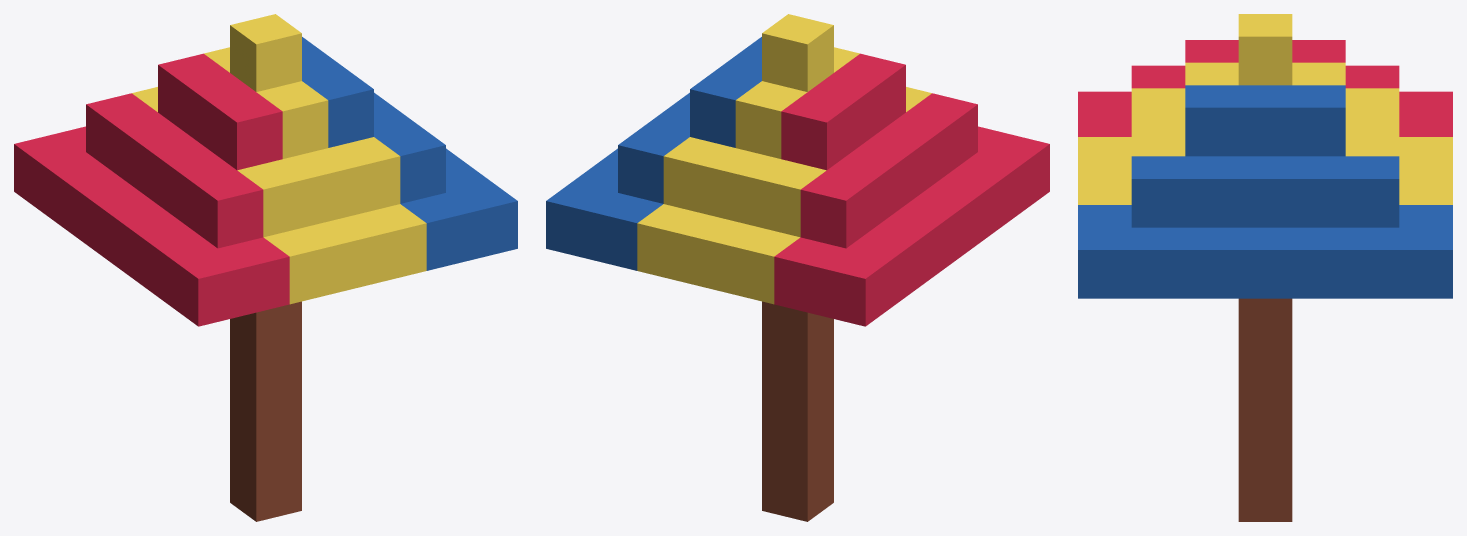
File: sun-umbrella.glb
3 views of the same model, side by side, from view 1: azimuth 30°, elevation 25°; view 2: azimuth 150°, elevation 25°; view 3: azimuth 270°, elevation 25° (orthographic).
Parts seen in each view (by area): view 1: generated(Clone); view 2: generated(Clone); view 3: generated(Clone).
Part boxes in pixels (x1,y1,x2,y2): generated(Clone): (14,14,517,521); generated(Clone): (546,14,1049,521); generated(Clone): (1078,14,1452,521).
Bounding box in the file's own units: 7 × 10 × 7.
Materials: 1 (1 with a texture image).
